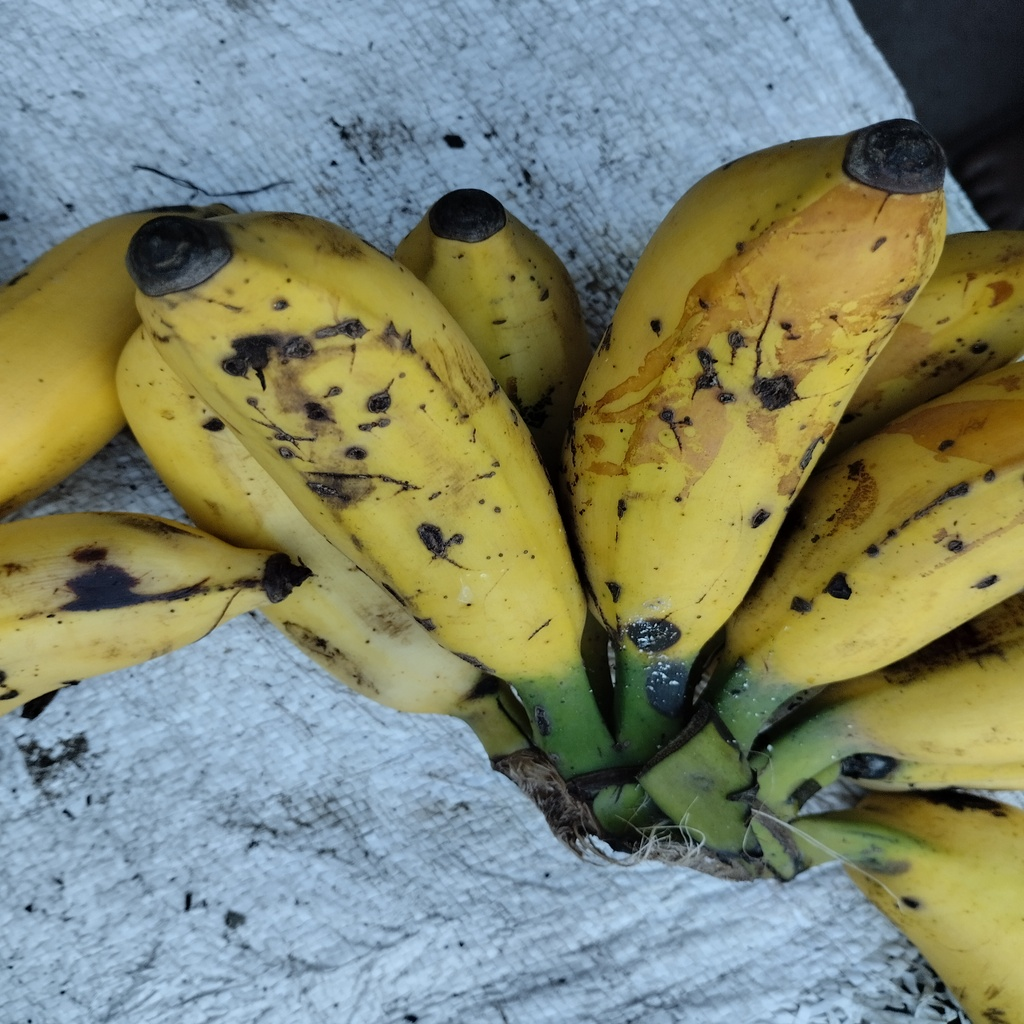unhealthy: (132, 213, 592, 668), (567, 131, 945, 667)
